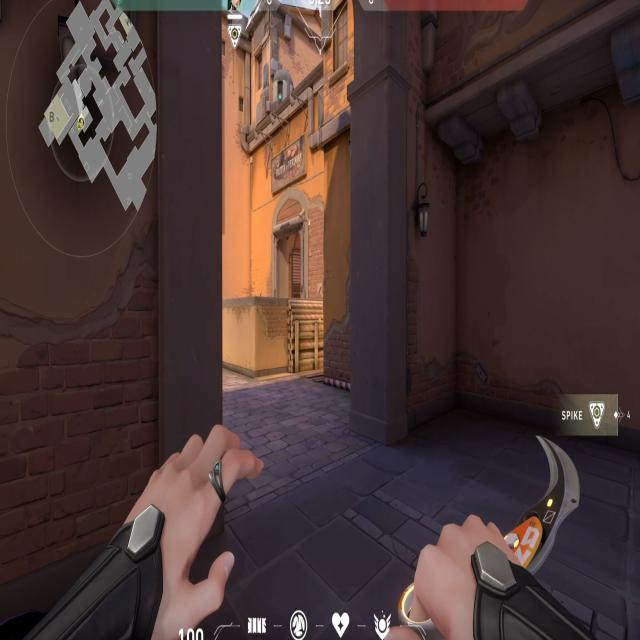B_Cubby: (246, 292, 331, 391)
